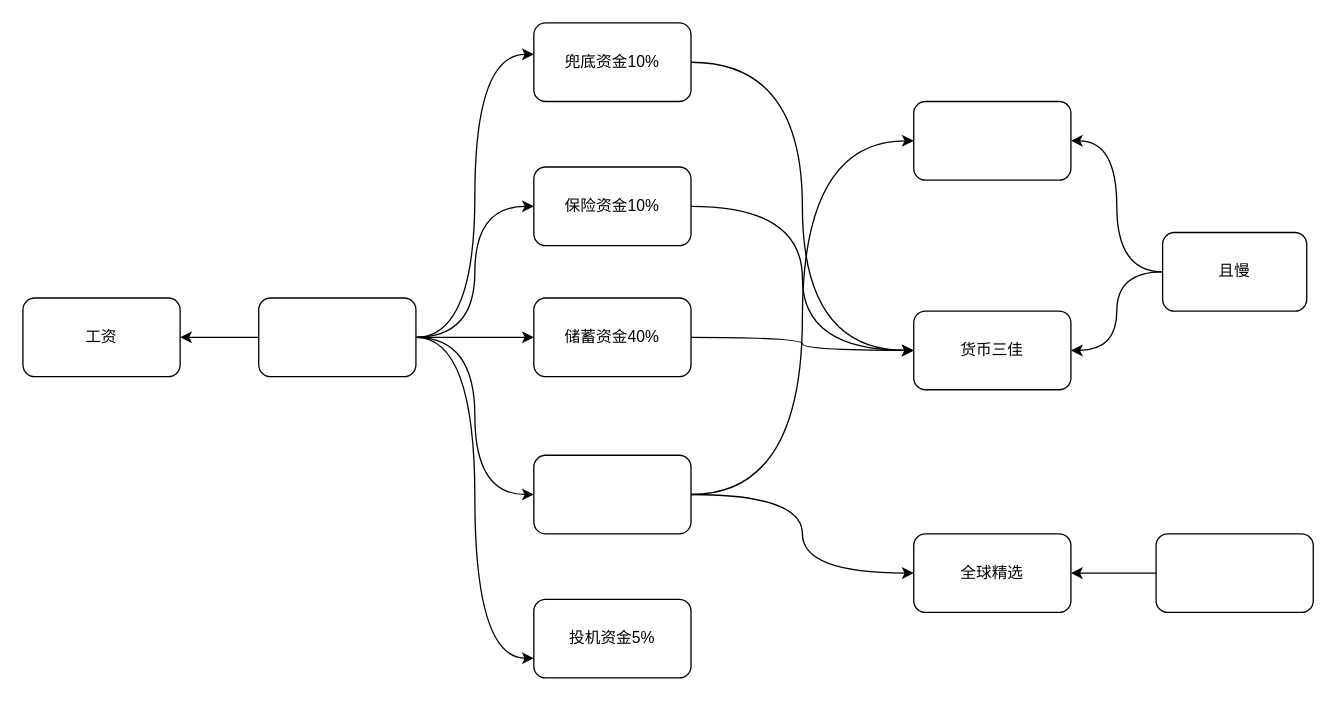
Image size: 1336x701. Some labels were removed from this diagram. Each missing label, with the box of its shape:
投资资金35%: (533, 454, 691, 534)
蛋卷: (1155, 533, 1313, 612)
资产: (257, 297, 416, 377)
长赢: (912, 100, 1071, 180)
